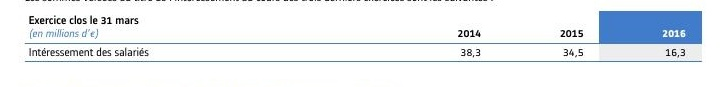table: (0, 0, 720, 87)
